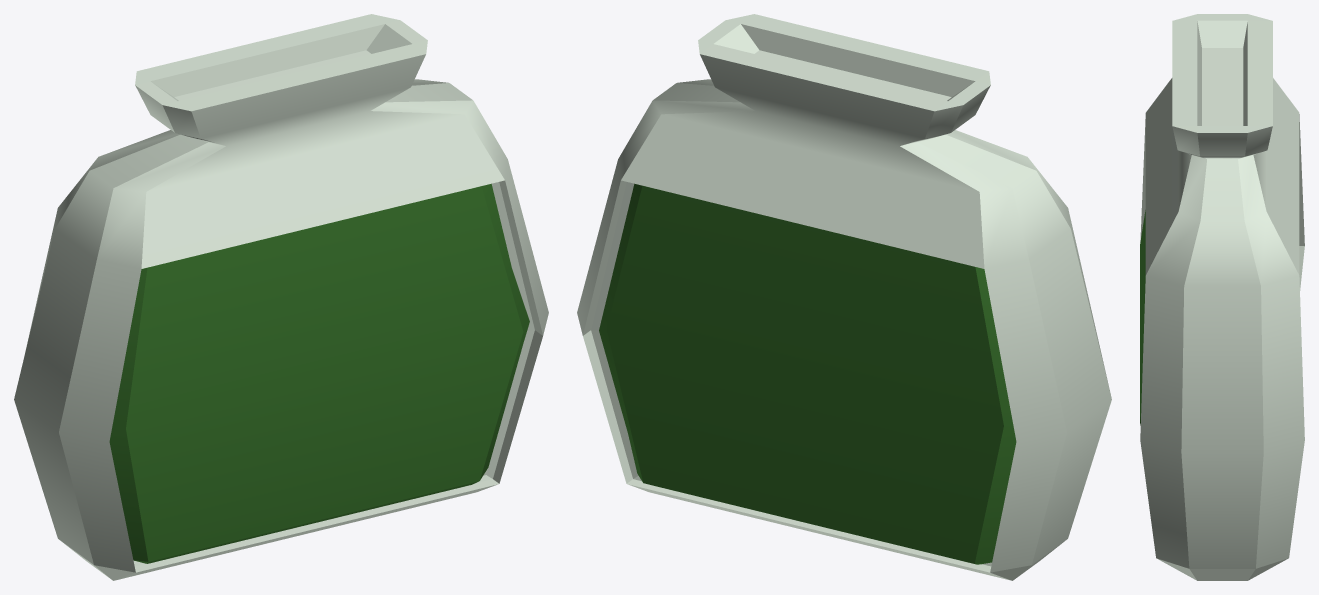
Rendered from Pickup_Catnip.fbx.
3 views of the same model, side by side, from view 1: azimuth 30°, elevation 25°; view 2: azimuth 150°, elevation 25°; view 3: azimuth 270°, elevation 25° (orthographic). The views are drawn at different scales.
Parts seen in each view (by area): view 1: pCube2, pCube1; view 2: pCube2, pCube1; view 3: pCube1, pCube2.
Part boxes in pixels (x1,y1,x2,y2): pCube2: [109, 183, 529, 563]; pCube1: [14, 14, 548, 580]; pCube2: [599, 183, 1016, 564]; pCube1: [577, 14, 1111, 580]; pCube1: [1140, 14, 1304, 580]; pCube2: [1140, 210, 1145, 425].
Bounding box in the file's own units: 0.4733 × 0.4281 × 0.1501.
